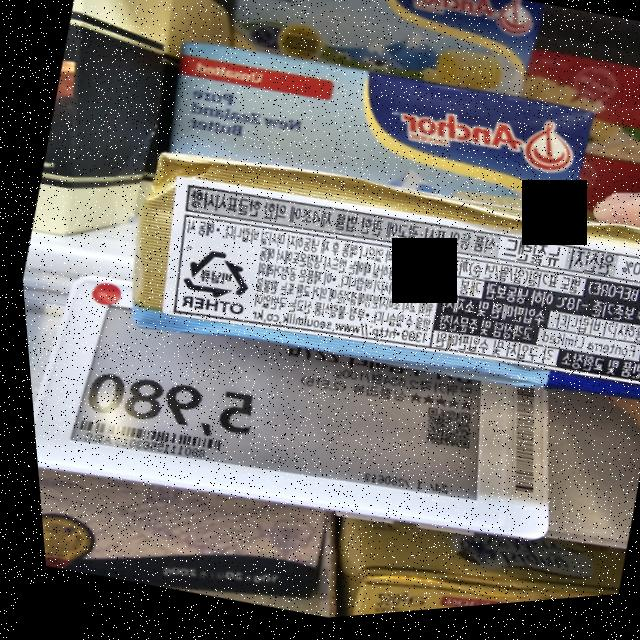Vinyl: (171, 242, 254, 313)
